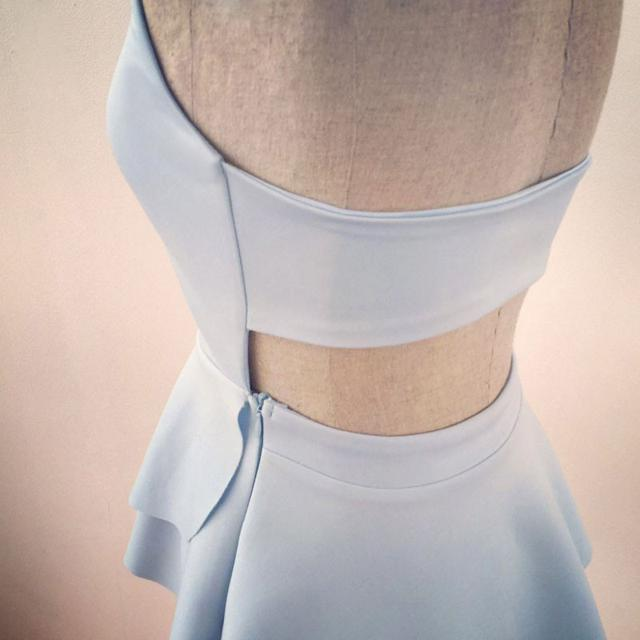Dresses: (107, 2, 605, 640)
